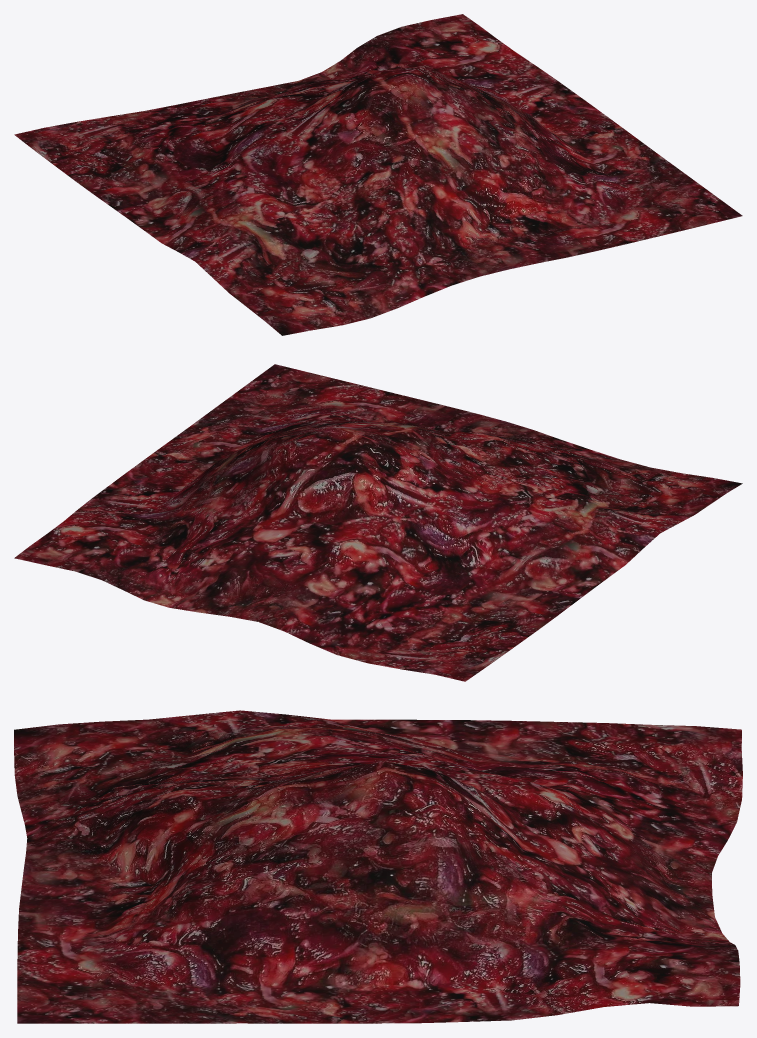
Rendered from bloom_growth_a.glb.
The picture shows the model from 3 angles, top to bottom: view 1: azimuth 30°, elevation 25°; view 2: azimuth 150°, elevation 25°; view 3: azimuth 270°, elevation 25°; orthographic projection. The views are drawn at different scales.
Parts seen in each view (by area): view 1: body; view 2: body; view 3: body.
Boxes of the visible parts, x1,y1,x2,y2 form: body: (14, 14, 742, 335); body: (14, 364, 742, 681); body: (14, 710, 742, 1023).
Bounding box in the file's own units: 1.5 × 0.3 × 1.52.
1 material, 1 textured.
